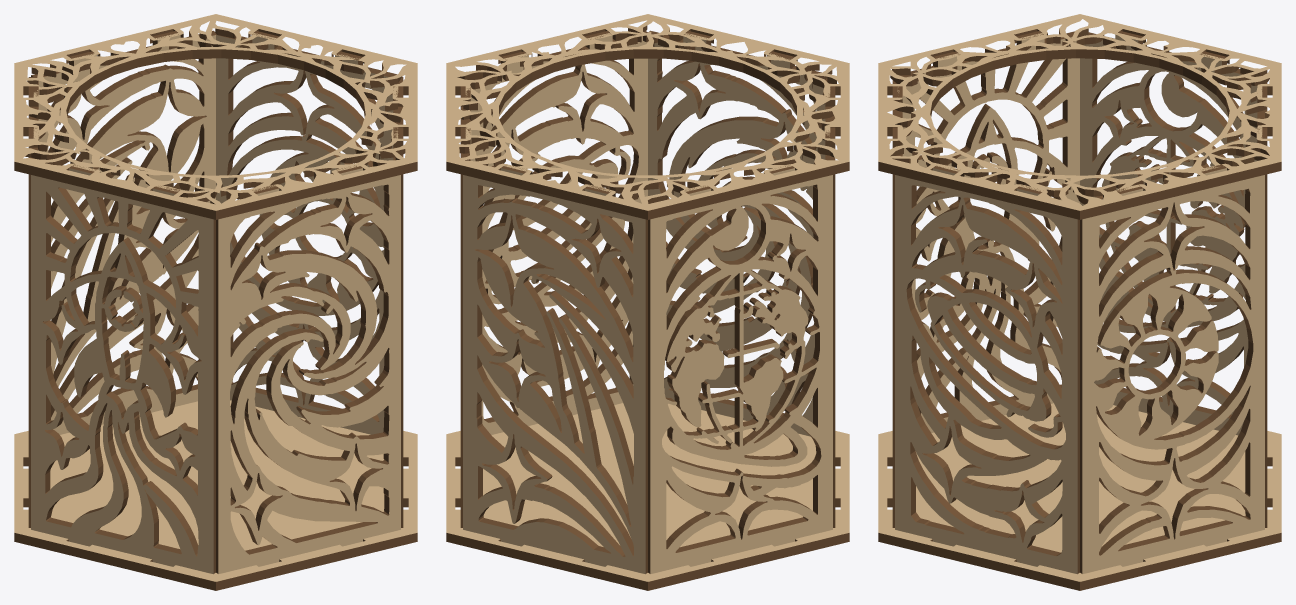
The model's file is lumi-2-vesmirne.glb.
3 views of the same model, side by side, from view 1: azimuth 30°, elevation 25°; view 2: azimuth 150°, elevation 25°; view 3: azimuth 270°, elevation 25° (orthographic).
Parts seen in each view (by area): view 1: stena-02, stena-03, vrsek, dno, stena-05, stena-06, stena-01, stena-04; view 2: stena-05, stena-04, vrsek, dno, stena-02, stena-01, stena-03, stena-06; view 3: stena-01, stena-06, vrsek, dno, stena-04, stena-03, stena-02, stena-05.
Part boxes in pixels (x1,y1,x2,y2): stena-02: [216, 165, 400, 574]; stena-03: [31, 164, 215, 574]; vrsek: [14, 14, 417, 219]; dno: [14, 400, 417, 590]; stena-05: [31, 30, 216, 434]; stena-06: [216, 31, 396, 434]; stena-01: [393, 77, 403, 527]; stena-04: [28, 77, 38, 527]; stena-05: [463, 165, 647, 574]; stena-04: [648, 165, 832, 574]; vrsek: [446, 14, 849, 219]; dno: [446, 403, 849, 590]; stena-02: [648, 30, 825, 436]; stena-01: [470, 31, 647, 434]; stena-03: [825, 78, 835, 527]; stena-06: [460, 86, 470, 527]; stena-01: [895, 165, 1079, 574]; stena-06: [1080, 164, 1264, 574]; vrsek: [878, 14, 1281, 219]; dno: [878, 403, 1281, 590]; stena-04: [1080, 31, 1257, 435]; stena-03: [899, 31, 1079, 432]; stena-02: [892, 80, 902, 527]; stena-05: [1257, 82, 1267, 527].
Bounding box in the file's own units: 0.14 × 0.126 × 0.1212.
